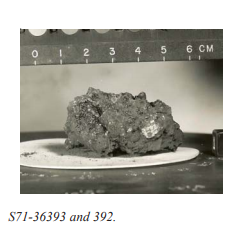Breccia: (38, 72, 189, 156)
